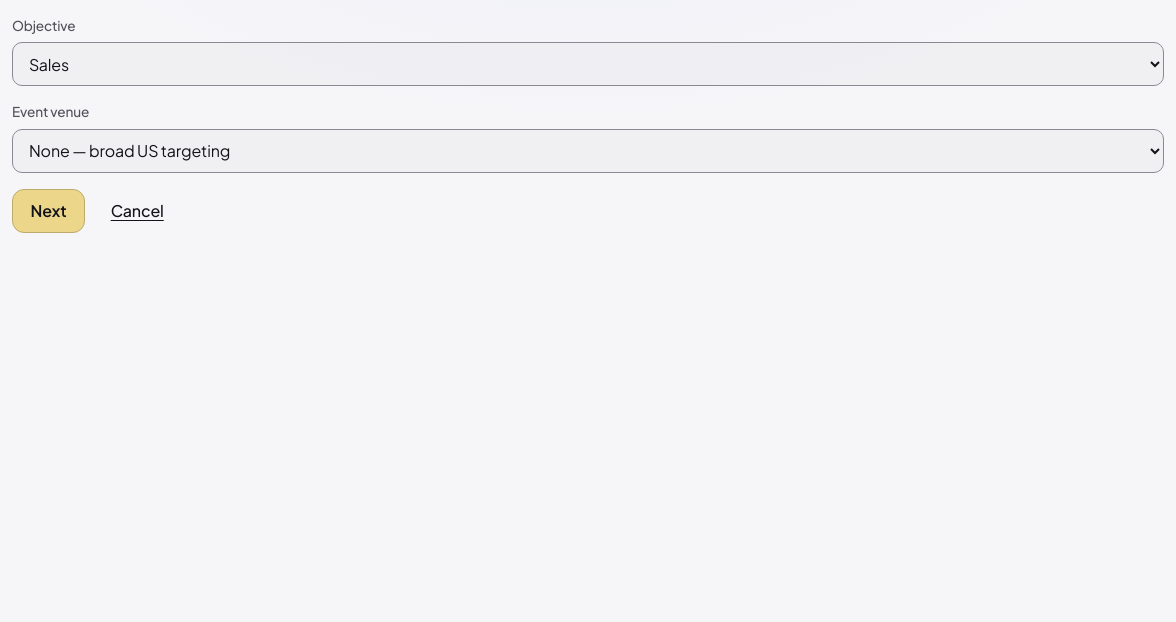
Test: NewCampaignFlow › shows the "Use an existing product instead" link only when the business has products
Click the button "Next". click: (49, 211)
box: x1=12 y1=189 x2=85 y2=233
(page scrolled)
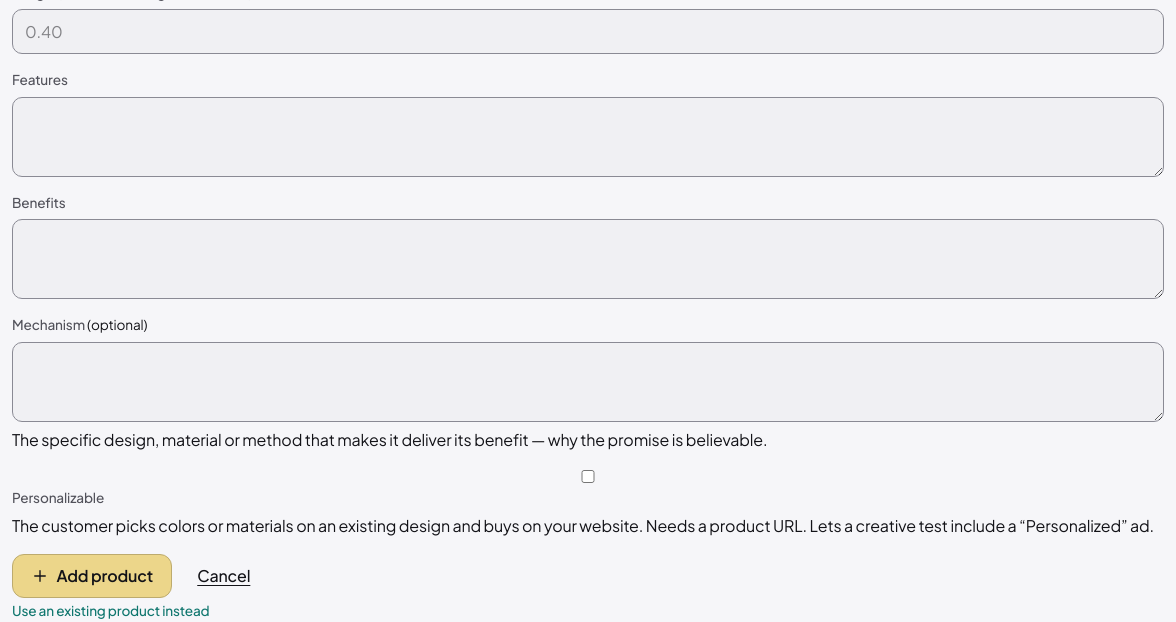
Check: the button "Use an existing product instead" is shown, box x1=12 y1=601 x2=210 y2=621
